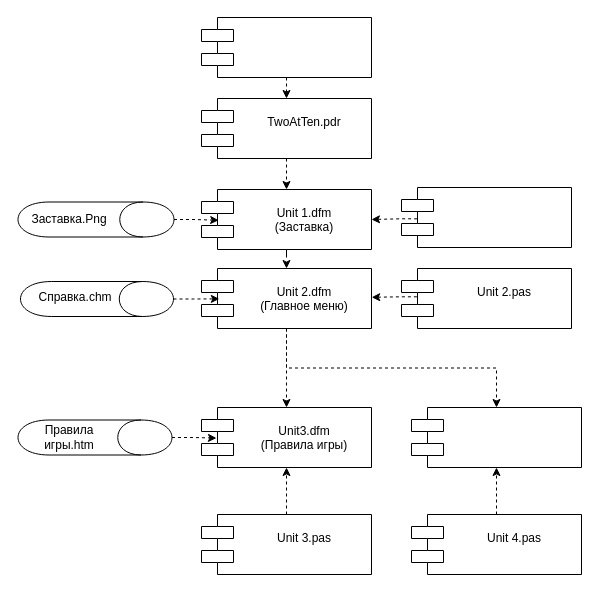
Image size: 599x592. Some labels were removed from this diagram. The box of each missing label's shape, as (x1, y1, x2, y2) in pixels:
TwoAtTen.exe (Испольняемый файл): (200, 16, 372, 78)
Unit 1.pas: (400, 186, 572, 248)
Unit4.dfm (Игра): (410, 406, 582, 468)
